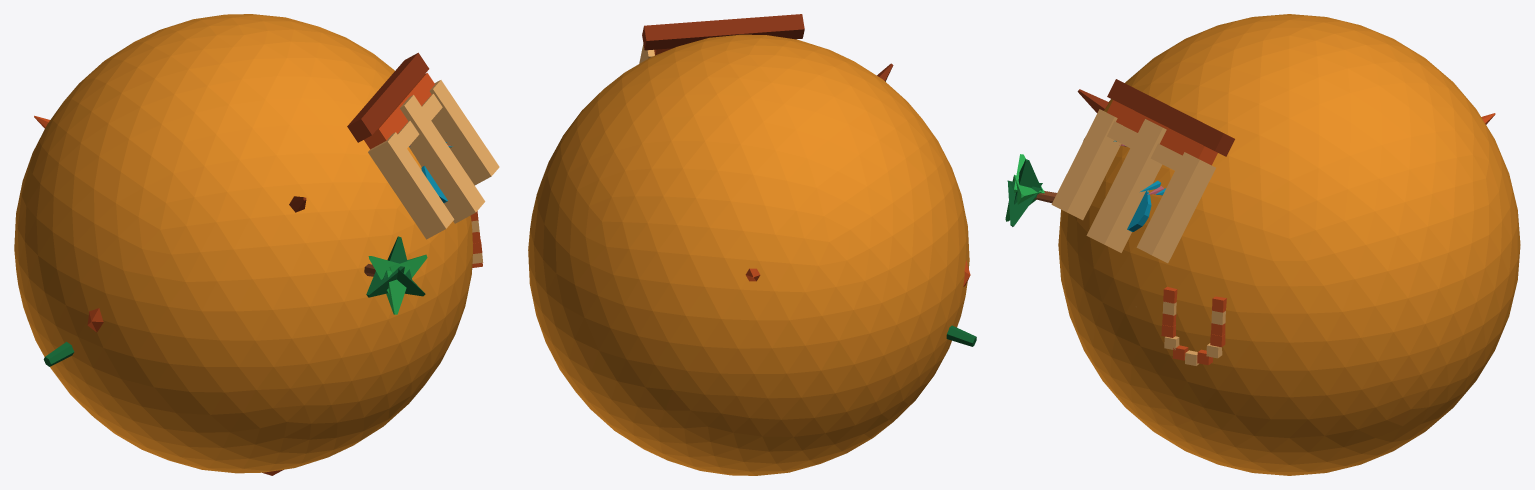
File: Desert_10.fbx
3 views of the same model, side by side, from view 1: azimuth 30°, elevation 25°; view 2: azimuth 150°, elevation 25°; view 3: azimuth 270°, elevation 25° (orthographic). The views are drawn at different scales.
Visible parts, largest first — view 1: Desert_10; view 2: Desert_10; view 3: Desert_10.
Part boxes in pixels (<box>): Desert_10: <box>14,14,499,475</box>; Desert_10: <box>528,14,976,475</box>; Desert_10: <box>1005,14,1520,475</box>.
Size of the model in its own units: 6.27 by 6 by 6.69.
Materials: 1 (1 with a texture image).
